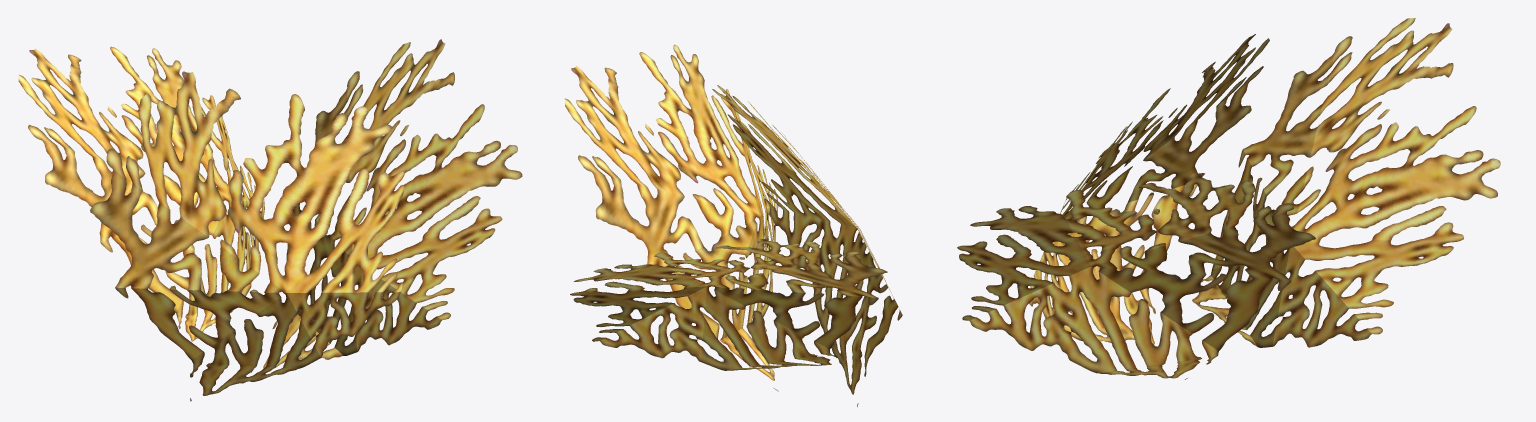
Rendered from cao_Y_shanhu.fbx.
3 views of the same model, side by side, from view 1: azimuth 30°, elevation 25°; view 2: azimuth 150°, elevation 25°; view 3: azimuth 270°, elevation 25° (orthographic). The views are drawn at different scales.
Parts seen in each view (by area): view 1: cao_Y_shanhu; view 2: cao_Y_shanhu; view 3: cao_Y_shanhu.
Boxes of the visible parts, box(x1,y1,x2,y2) form: cao_Y_shanhu: box(18, 39, 522, 401); cao_Y_shanhu: box(564, 44, 902, 406); cao_Y_shanhu: box(957, 18, 1500, 379).
Size of the model in its own units: 434 by 345 by 512.
